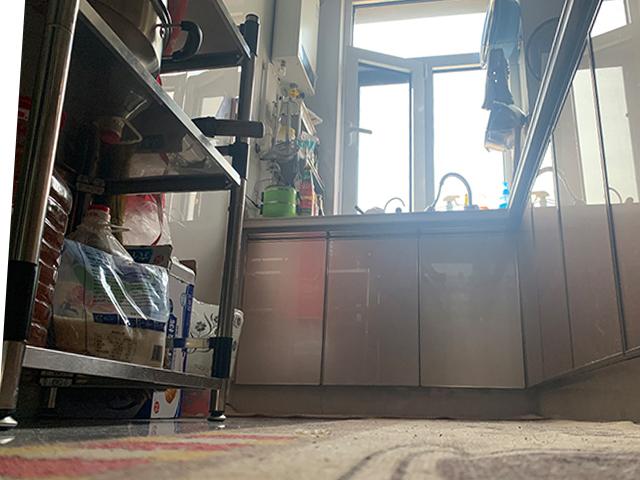cabinet: (233, 211, 526, 414)
carpet: (1, 419, 640, 480)
